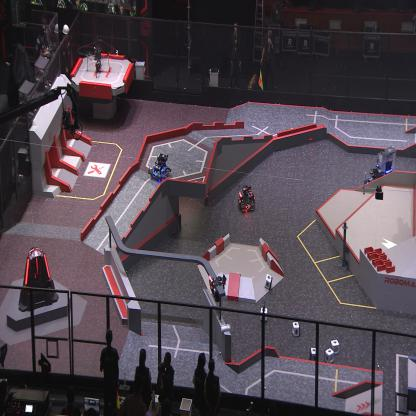car: (373, 144, 397, 185), (147, 152, 172, 182), (237, 183, 256, 214), (362, 164, 382, 193)
